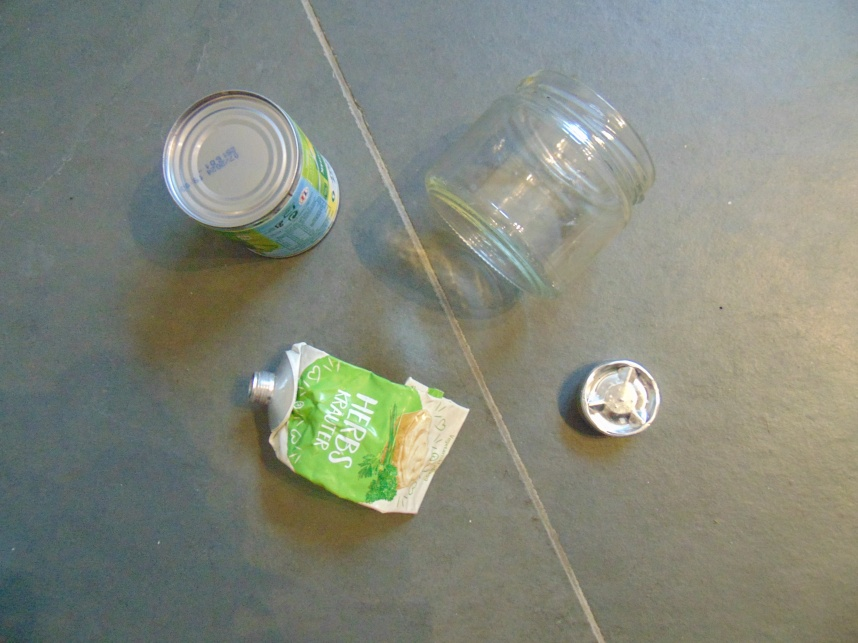glass_bottle: (422, 66, 657, 295)
metal: (247, 341, 469, 515), (580, 360, 662, 439)
metal_can: (160, 89, 341, 260)
